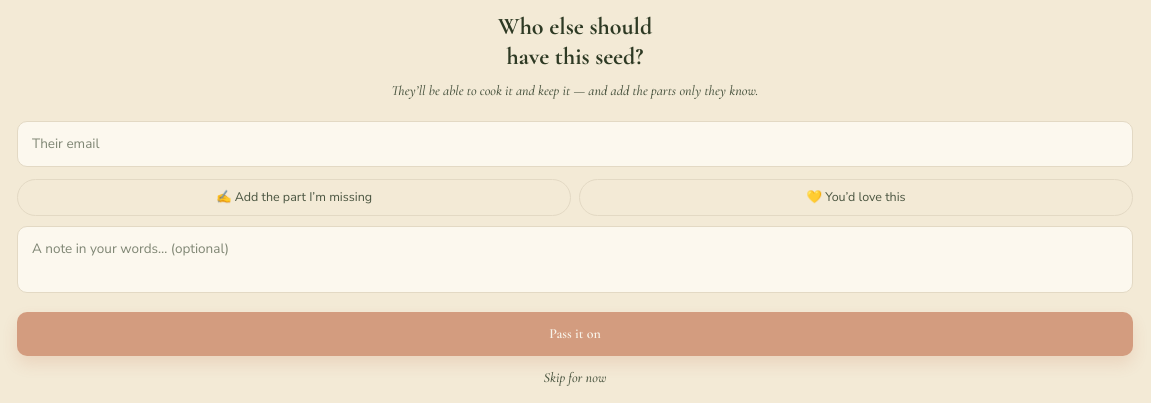
Test: HandoffInvite › tapping a starter fills the note
Click the button "✍️ Add the part I’m missing". click: {"x": 294, "y": 198}
box: [17,179,571,216]
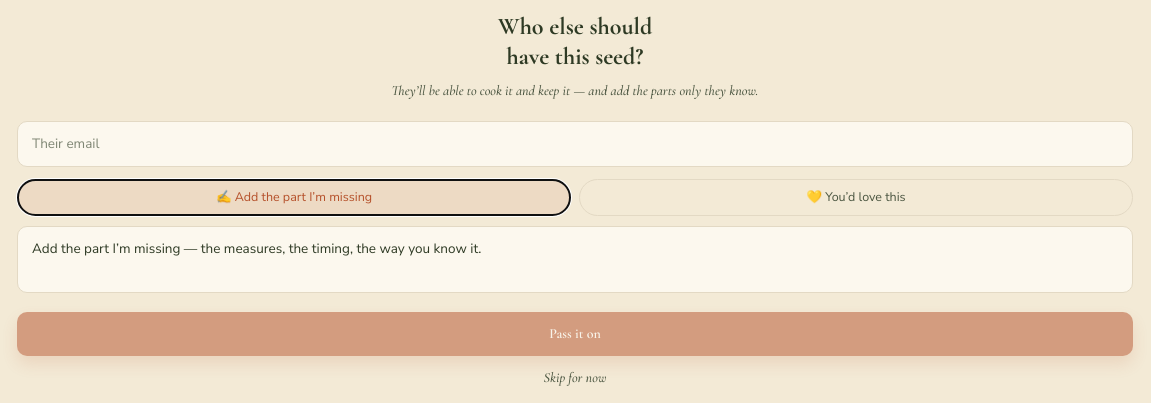
Check: the text box with placeholder "A note in your words… (optional)" holds "Add the part I’m missing — the measures, the timing, the way you know it.", box [17,226,1133,292]
